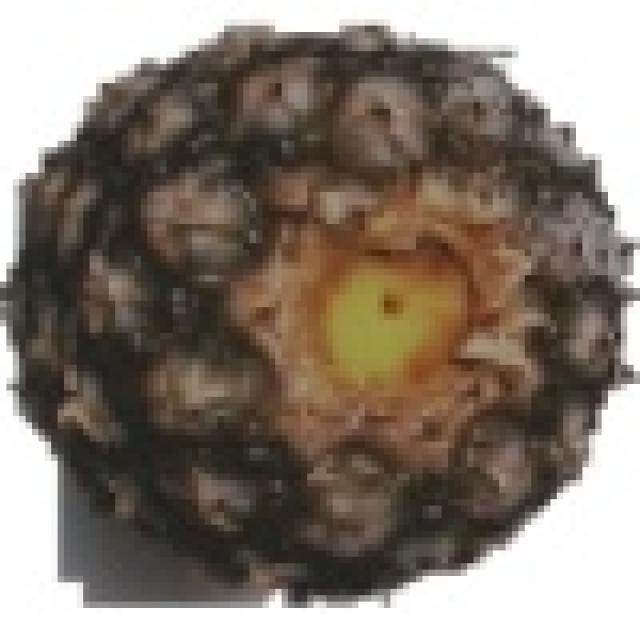pineapple: (32, 19, 627, 589)
